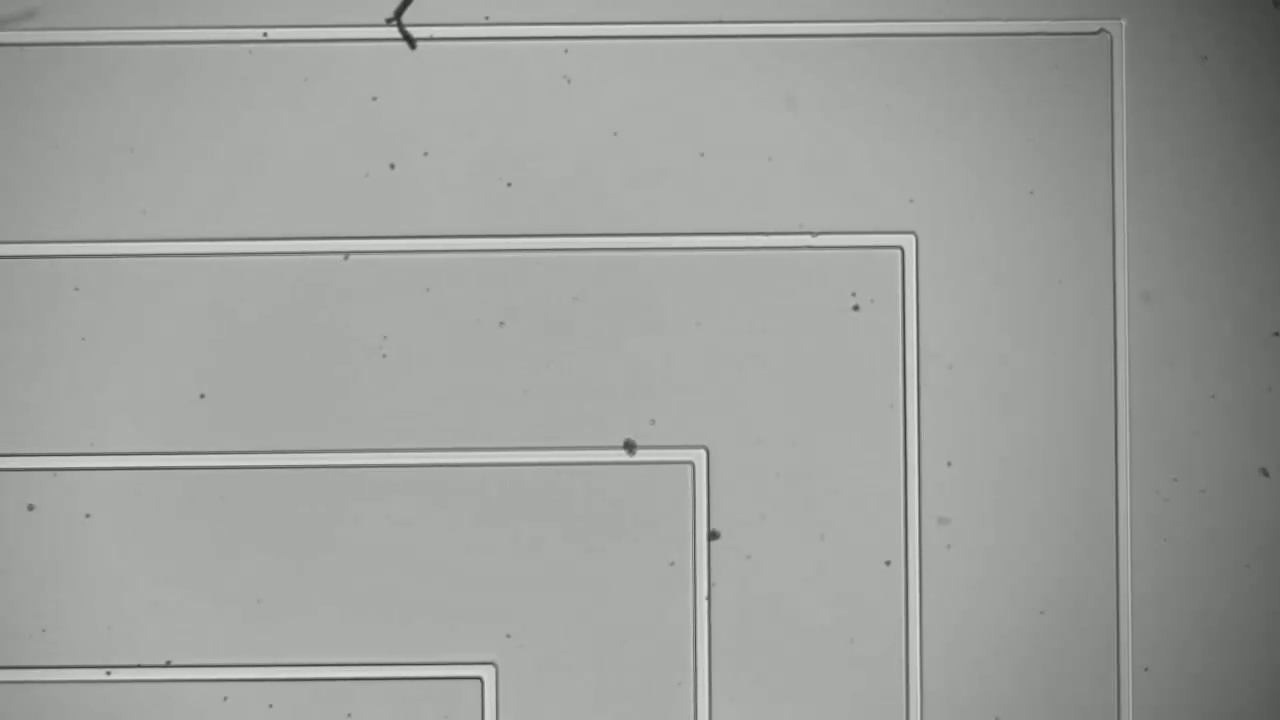edge_bite: (1088, 14, 1117, 38)
stains_enbedded: (618, 430, 647, 470)
